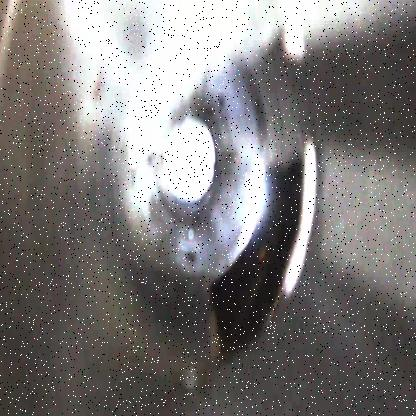Crack2: (208, 161, 304, 366)
